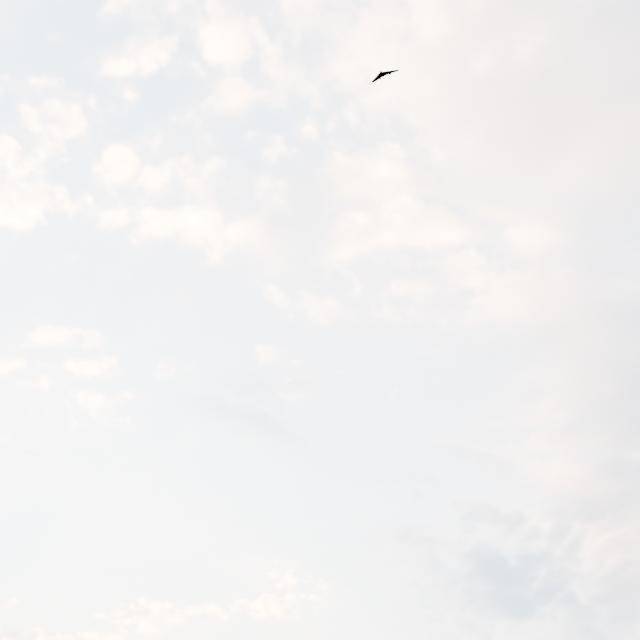Airaplan: (371, 68, 399, 82)
